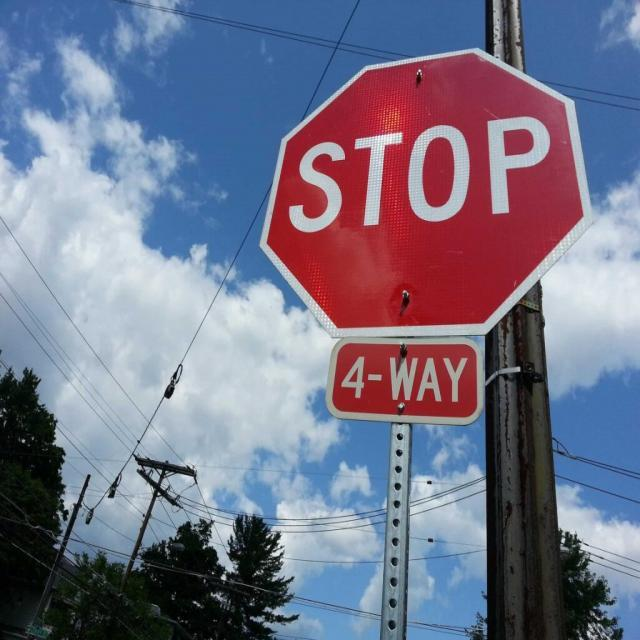stop: (258, 46, 593, 339)
